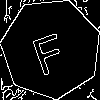F: (26, 23, 70, 77)
